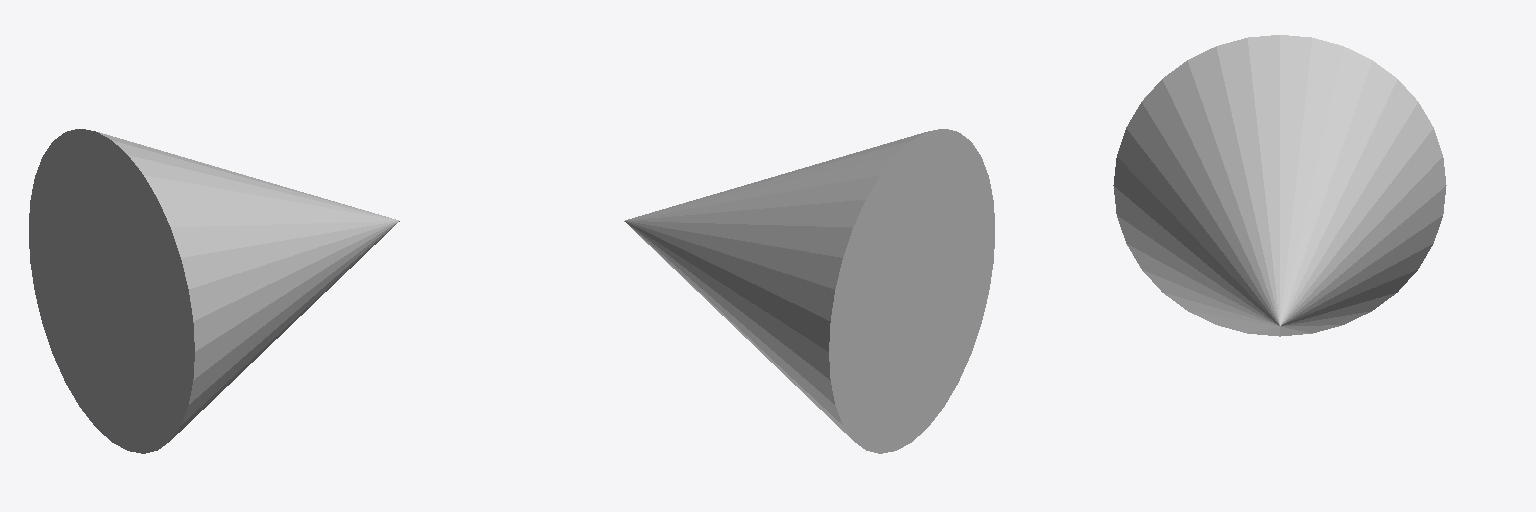
File: compass tip.obj
3 views of the same model, side by side, from view 1: azimuth 30°, elevation 25°; view 2: azimuth 150°, elevation 25°; view 3: azimuth 270°, elevation 25° (orthographic).
Parts seen in each view (by area): view 1: Cone; view 2: Cone; view 3: Cone.
Part boxes in pixels (x1,y1,x2,y2): Cone: (29, 129, 399, 453); Cone: (624, 129, 994, 453); Cone: (1113, 35, 1446, 336).
Size of the model in its own units: 0.6271 by 0.6271 by 0.6271.